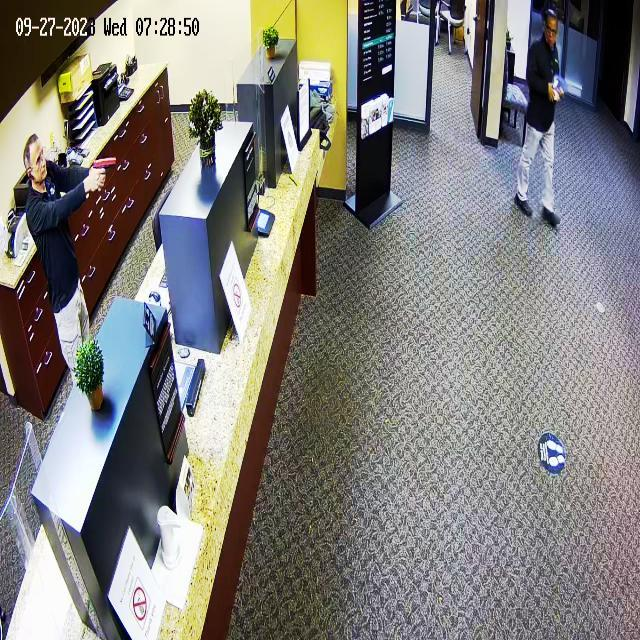Gun: (89, 151, 129, 200)
